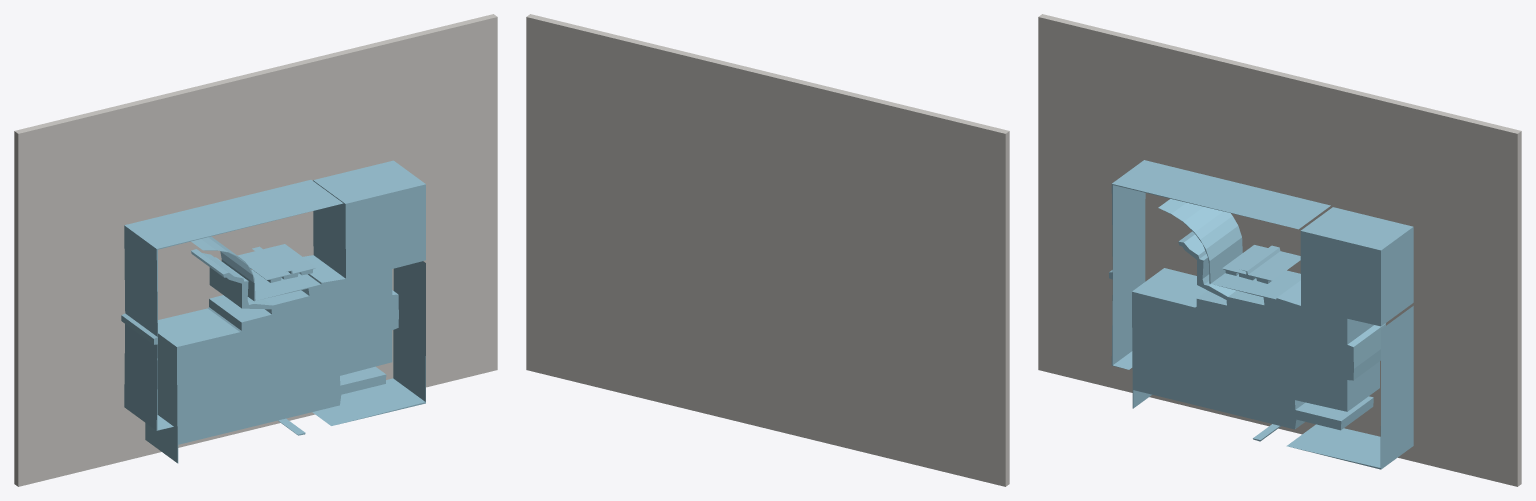
3 renders of one model, left to right at view 1: azimuth 30°, elevation 25°; view 2: azimuth 150°, elevation 25°; view 3: azimuth 330°, elevation 25°, orthographic.
Visible parts, largest first — view 1: world; view 2: world; view 3: world.
Part boxes in pixels (left/top/right/bottom): world: left=14, top=14, right=497, bottom=486; world: left=526, top=14, right=1009, bottom=486; world: left=1038, top=14, right=1521, bottom=486.
Bounding box in the file's own units: 10.23 × 7.2 × 1.35.
